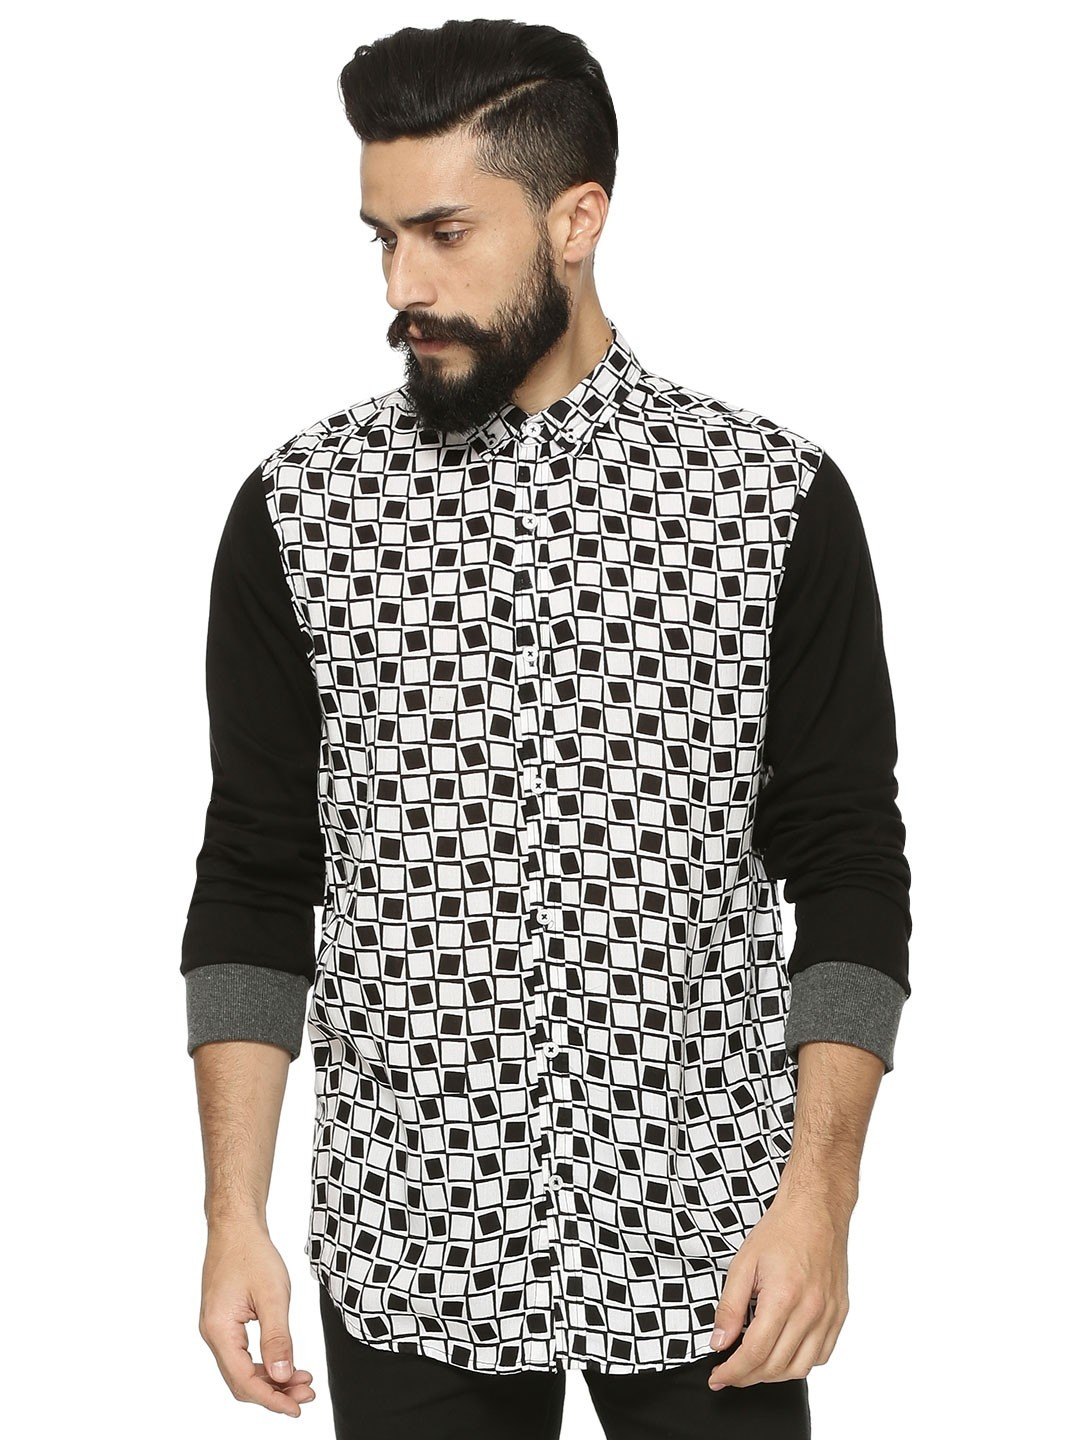Shirt: (132, 353, 1048, 1387)
